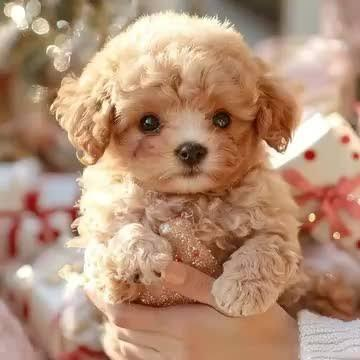puppy-dog: (47, 11, 308, 323)
